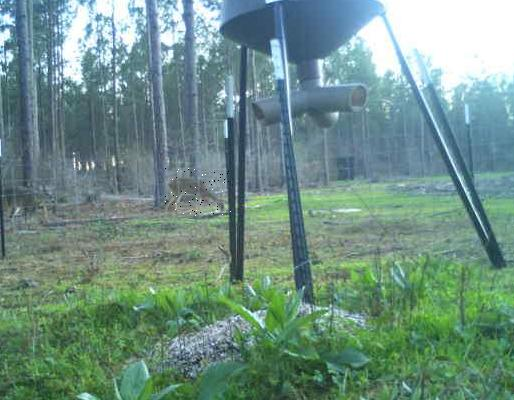Deer: (165, 168, 231, 217)
